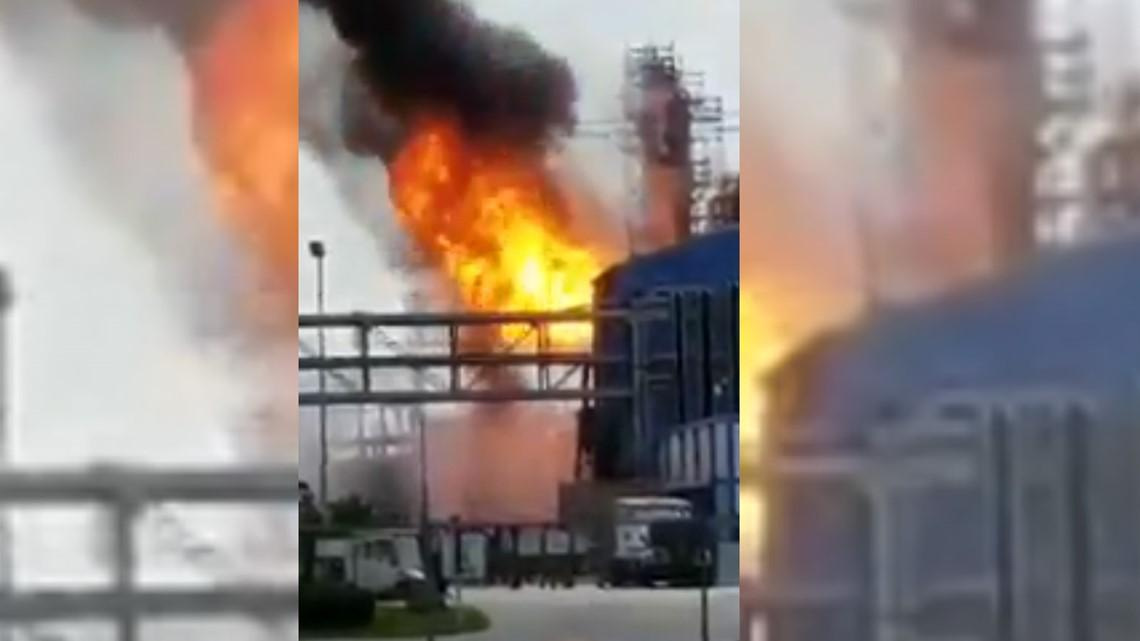Fire: (390, 160, 613, 356)
